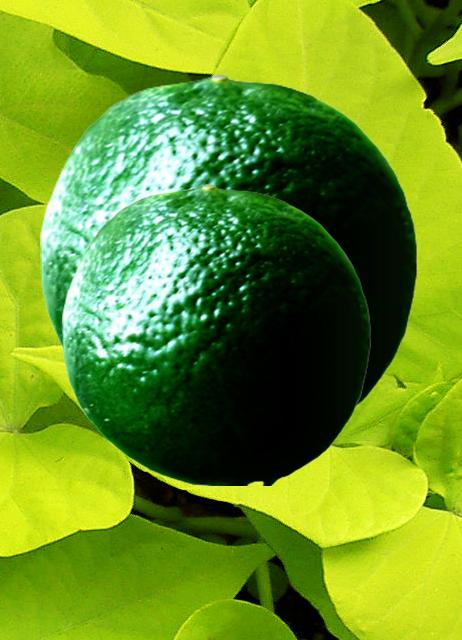calamansi: (40, 73, 416, 411), (62, 183, 369, 484)
